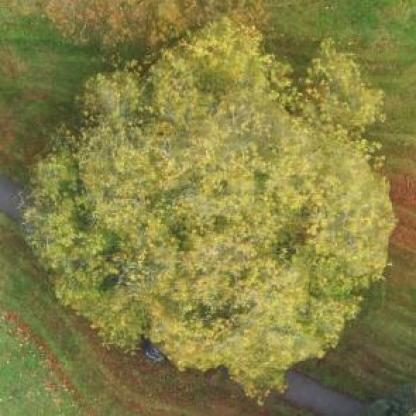Deciduous Tree: (13, 26, 409, 403), (37, 0, 274, 58)
